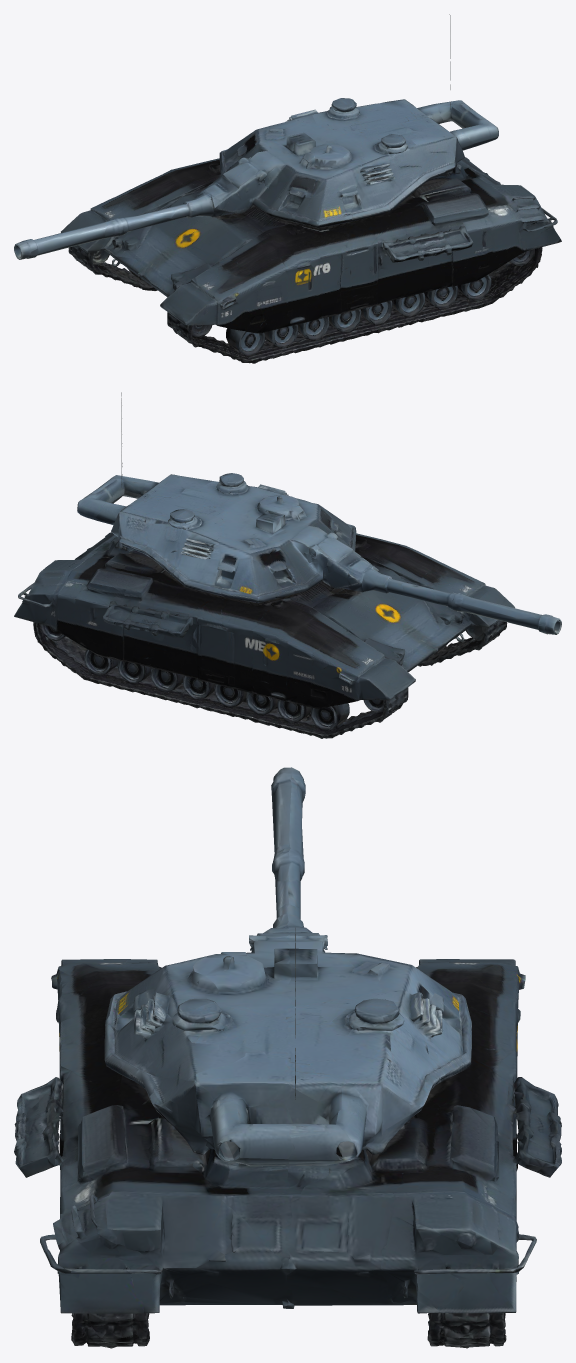
Rendered from tank__heavy-mbt.glb.
3 views of the same model, one above another, from view 1: azimuth 30°, elevation 25°; view 2: azimuth 150°, elevation 25°; view 3: azimuth 270°, elevation 25° (orthographic). The views are drawn at different scales.
Bounding box in the file's own units: 1.9 × 0.9153 × 1.04.
Materials: 1 (1 with a texture image).
